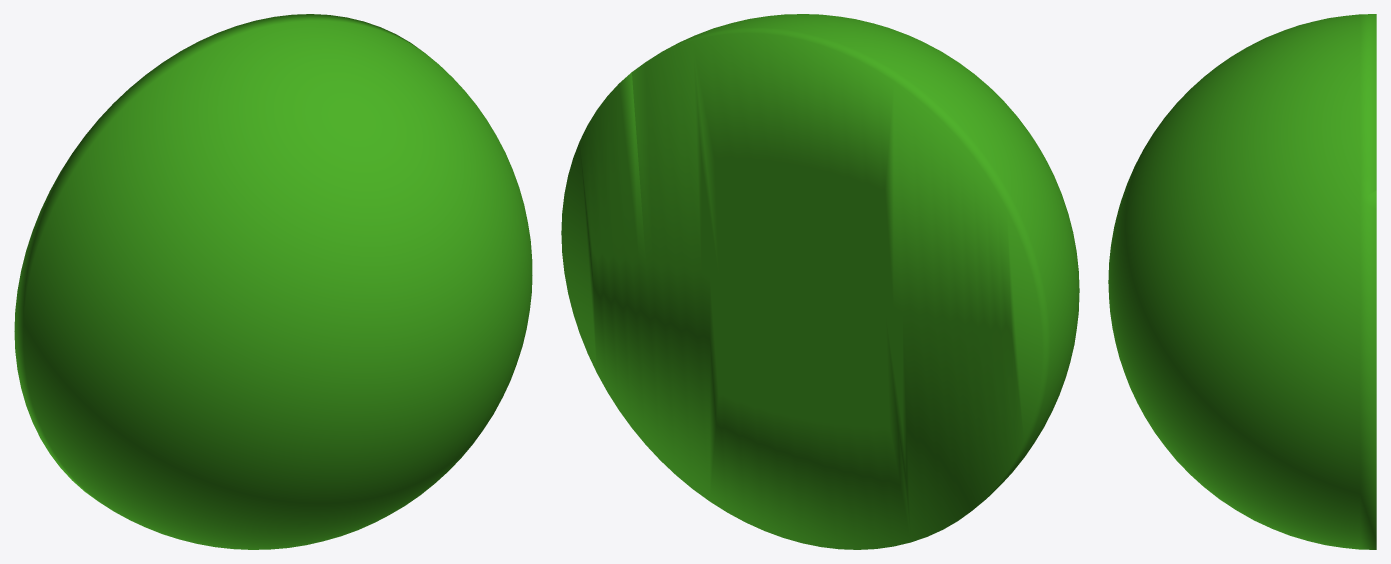
The model's file is head.obj.
The picture shows the model from 3 angles, left to right: view 1: azimuth 30°, elevation 25°; view 2: azimuth 150°, elevation 25°; view 3: azimuth 270°, elevation 25°; orthographic projection. The views are drawn at different scales.
Bounding box in the file's own units: 40 × 40 × 20.
